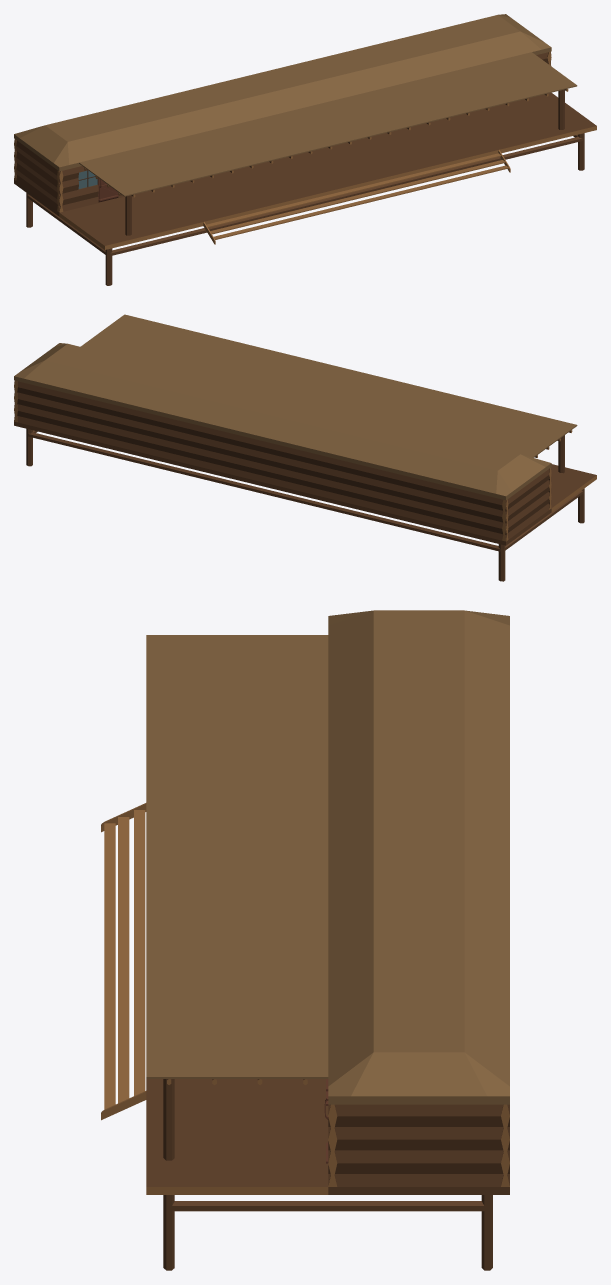
Rendered from casa 3.fbx.
The picture shows the model from 3 angles, top to bottom: view 1: azimuth 30°, elevation 25°; view 2: azimuth 150°, elevation 25°; view 3: azimuth 270°, elevation 25°; orthographic projection. The views are drawn at different scales.
Parts seen in each view (by area): view 1: Cube.374; view 2: Cube.374; view 3: Cube.374.
Boxes of the visible parts, box(x1,y1,x2,y2) form: Cube.374: box(14, 14, 596, 285); Cube.374: box(14, 314, 596, 581); Cube.374: box(101, 610, 509, 1270).
Bounding box in the file's own units: 5000 × 1000 × 1800.
